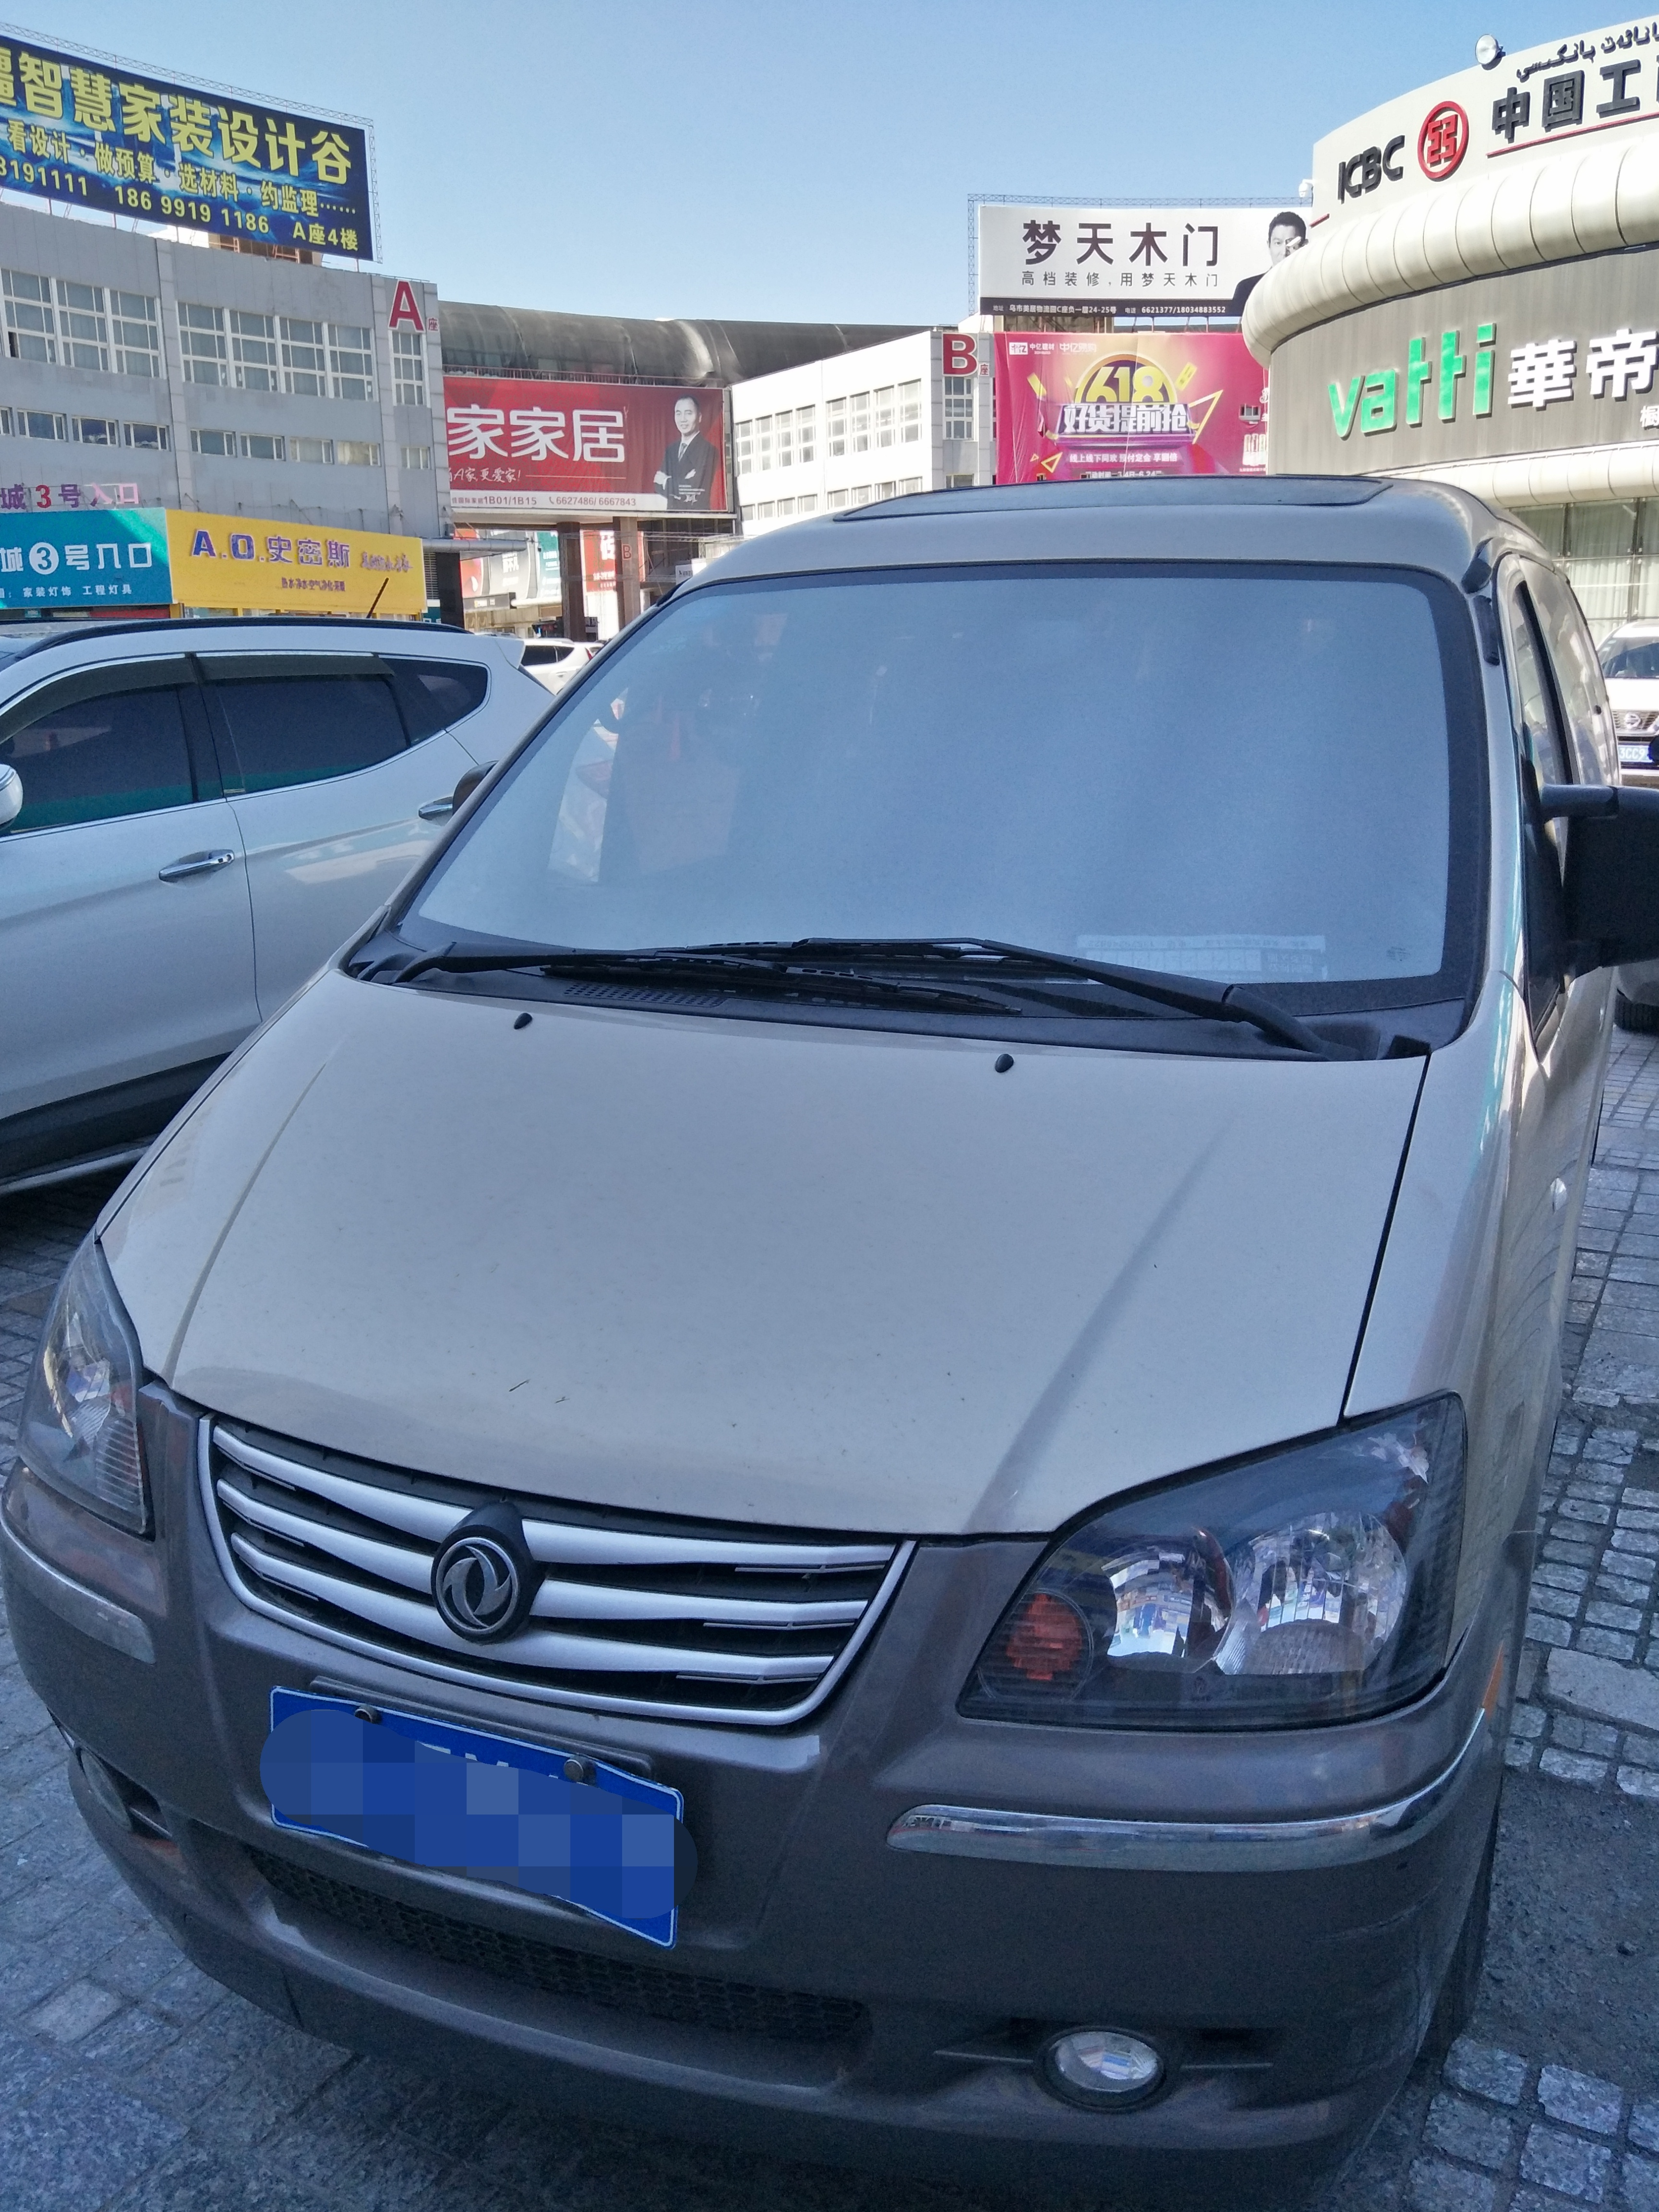minibus: (94, 448, 1582, 2193)
